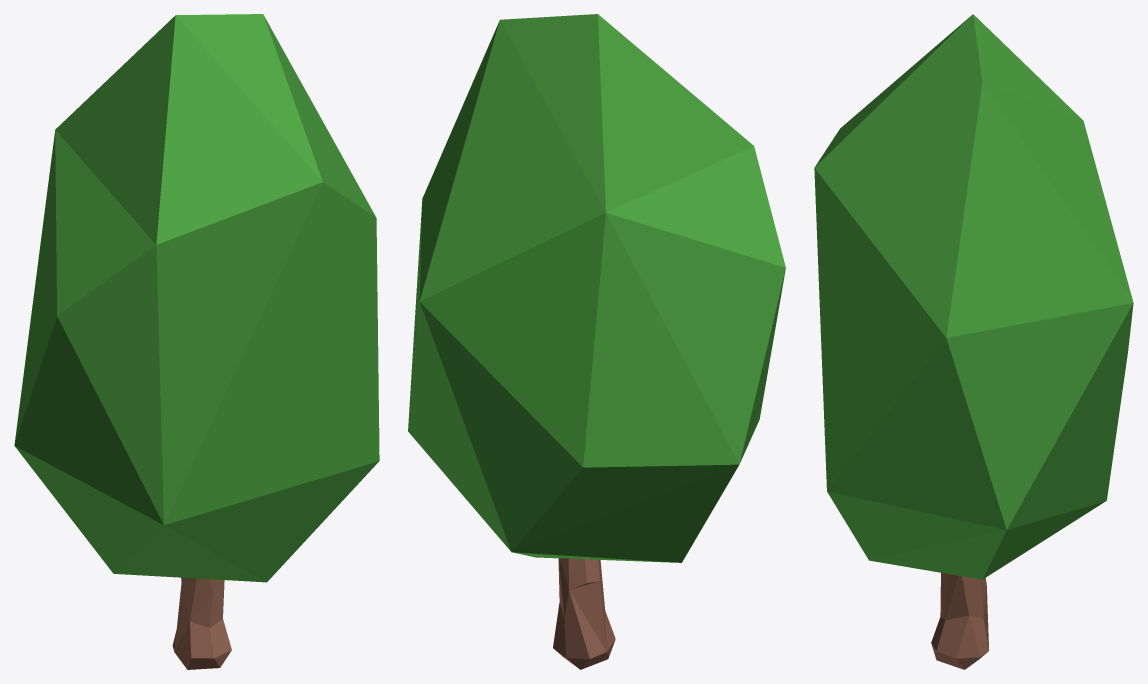
The model's file is arbol3.glb.
3 views of the same model, side by side, from view 1: azimuth 30°, elevation 25°; view 2: azimuth 150°, elevation 25°; view 3: azimuth 270°, elevation 25° (orthographic). The views are drawn at different scales.
Parts seen in each view (by area): view 1: Object_4, Object_5; view 2: Object_4, Object_5; view 3: Object_4, Object_5.
Boxes of the visible parts, <box> form: Object_4: <box>14,14,379,582</box>; Object_5: <box>172,577,231,669</box>; Object_4: <box>408,14,785,562</box>; Object_5: <box>553,558,615,669</box>; Object_4: <box>814,14,1133,579</box>; Object_5: <box>931,573,988,669</box>.
Bounding box in the file's own units: 1.45 × 2.66 × 1.2.
